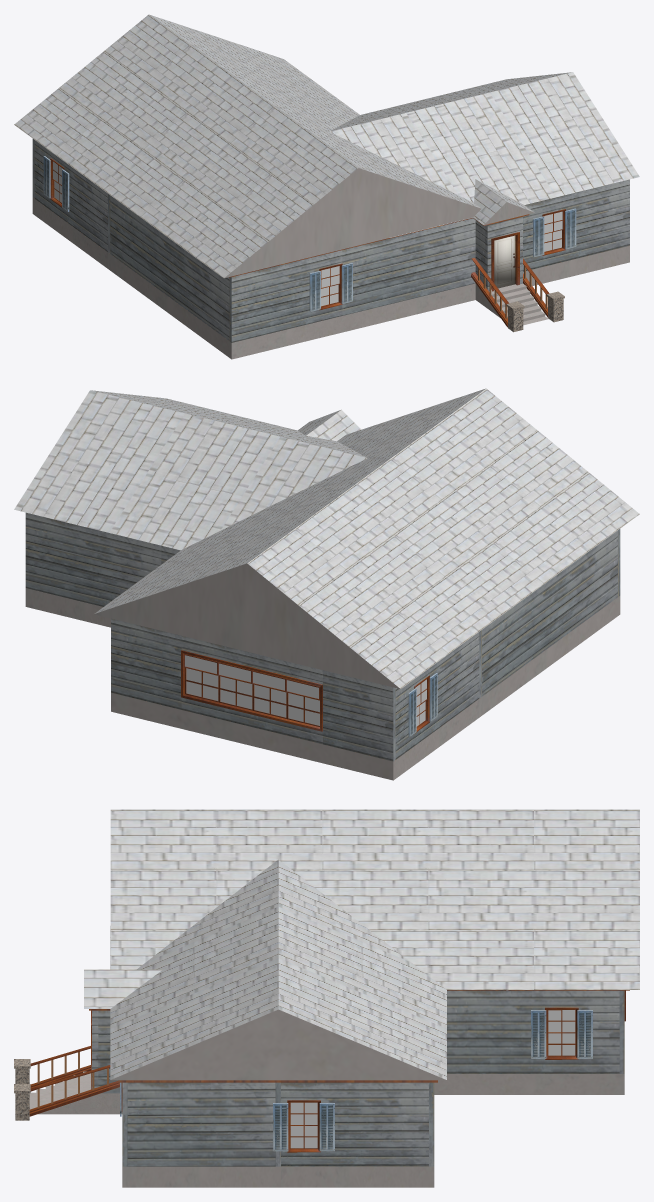
File: Psx House.fbx
The picture shows the model from 3 angles, top to bottom: view 1: azimuth 30°, elevation 25°; view 2: azimuth 150°, elevation 25°; view 3: azimuth 270°, elevation 25°; orthographic projection. The views are drawn at different scales.
Parts seen in each view (by area): view 1: roof, wall11, wall6, wall20, ground1, wall3, ground4, ground8, wall13, ground2, stair railing2, stairs (+3 smaller); view 2: roof, wall1, wall6, wall16, ground2, wall3, ground1, ground7, window5, window6, window7, window8; view 3: roof, wall18, wall2, wall17, ground2, ground8, ground7, stair railing1, stairs, stair railing2, wall14, blinds3 (+11 smaller).
Boxes of the visible parts, x1=… form: roof: x1=14, y1=14, x2=639, y2=278; wall11: x1=229, y1=218, x2=475, y2=342; wall6: x1=110, y1=195, x2=229, y2=340; wall20: x1=523, y1=179, x2=629, y2=271; ground1: x1=108, y1=252, x2=350, y2=359; wall3: x1=34, y1=140, x2=107, y2=251; ground4: x1=350, y1=284, x2=471, y2=330; ground8: x1=523, y1=246, x2=629, y2=285; wall13: x1=485, y1=216, x2=522, y2=291; ground2: x1=32, y1=197, x2=107, y2=268; stair railing2: x1=471, y1=258, x2=524, y2=332; stairs: x1=486, y1=283, x2=548, y2=325; roof: x1=14, y1=388, x2=639, y2=688; wall1: x1=111, y1=618, x2=395, y2=761; wall6: x1=482, y1=530, x2=617, y2=696; wall16: x1=25, y1=512, x2=161, y2=606; ground2: x1=111, y1=693, x2=479, y2=780; wall3: x1=395, y1=632, x2=479, y2=759; ground1: x1=479, y1=596, x2=620, y2=717; ground7: x1=25, y1=588, x2=110, y2=627; window5: x1=185, y1=668, x2=218, y2=702; window6: x1=219, y1=676, x2=252, y2=710; window7: x1=253, y1=684, x2=286, y2=718; window8: x1=287, y1=692, x2=319, y2=726; roof: x1=84, y1=809, x2=639, y2=1080; wall18: x1=127, y1=1082, x2=275, y2=1166; wall2: x1=447, y1=990, x2=619, y2=1073; wall17: x1=281, y1=1082, x2=428, y2=1166; ground2: x1=434, y1=1074, x2=624, y2=1094; ground8: x1=122, y1=1166, x2=280, y2=1187; ground7: x1=281, y1=1166, x2=434, y2=1187; stair railing1: x1=14, y1=1065, x2=119, y2=1120; stairs: x1=29, y1=1071, x2=95, y2=1114; stair railing2: x1=14, y1=1046, x2=90, y2=1091; wall14: x1=98, y1=1010, x2=119, y2=1093; blinds3: x1=273, y1=1103, x2=288, y2=1151.
Size of the model in its own units: 1908 by 724 by 1971.
Materials: 13 (9 with a texture image).
